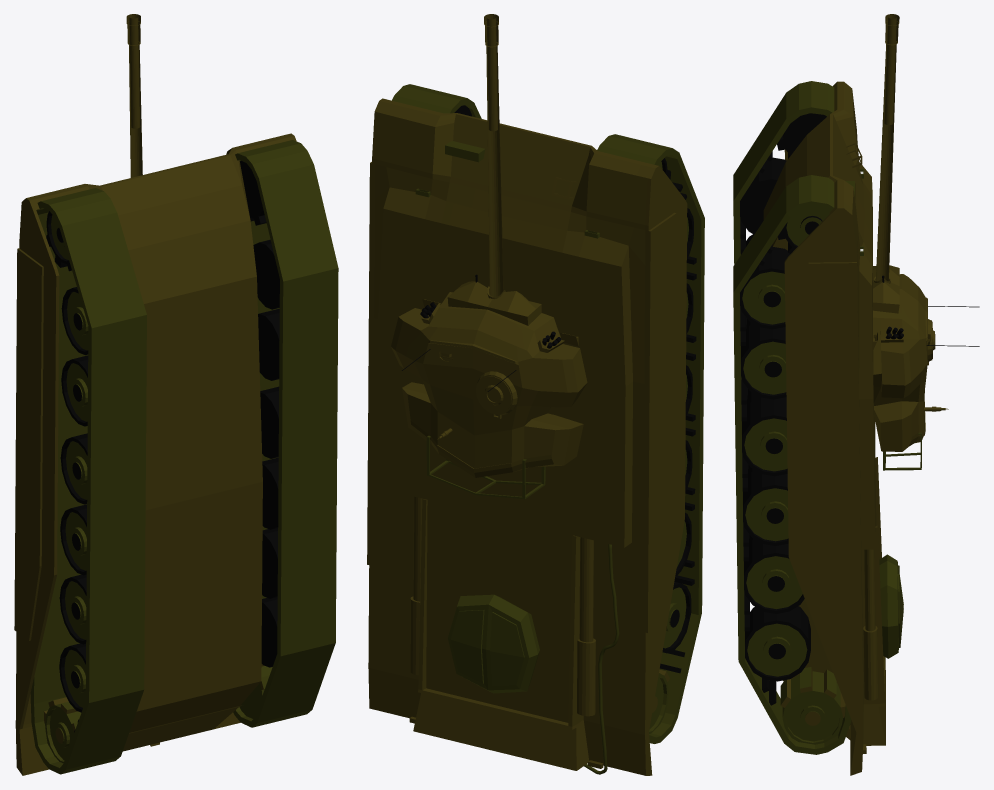
Rendered from CENTURION.fbx.
3 views of the same model, side by side, from view 1: azimuth 30°, elevation 25°; view 2: azimuth 150°, elevation 25°; view 3: azimuth 270°, elevation 25° (orthographic). The views are drawn at different scales.
Parts seen in each view (by area): view 1: wheels4, turret; view 2: wheels4, turret; view 3: wheels4, turret.
Part boxes in pixels (bbox=[...]): wheels4: bbox=[14, 133, 338, 775]; turret: bbox=[126, 14, 142, 177]; wheels4: bbox=[367, 84, 704, 775]; turret: bbox=[391, 14, 587, 499]; wheels4: bbox=[733, 81, 903, 775]; turret: bbox=[873, 14, 979, 470].
Size of the model in its own units: 116 by 293 by 93.53.
